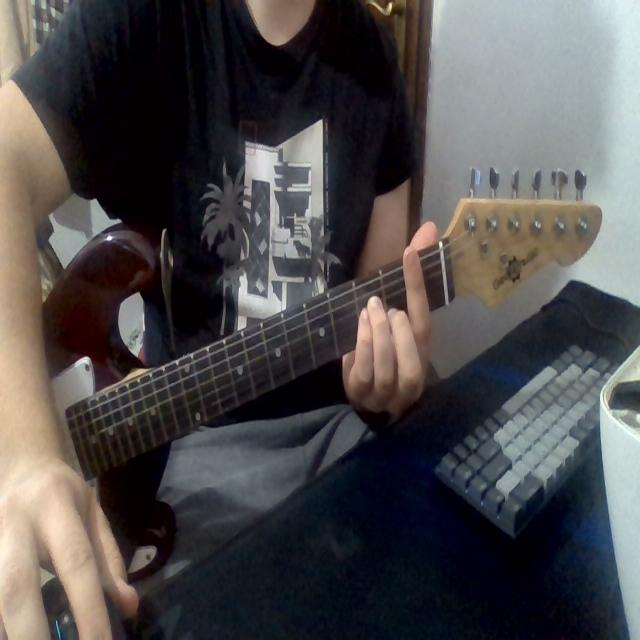Bm: (332, 220, 451, 441)
